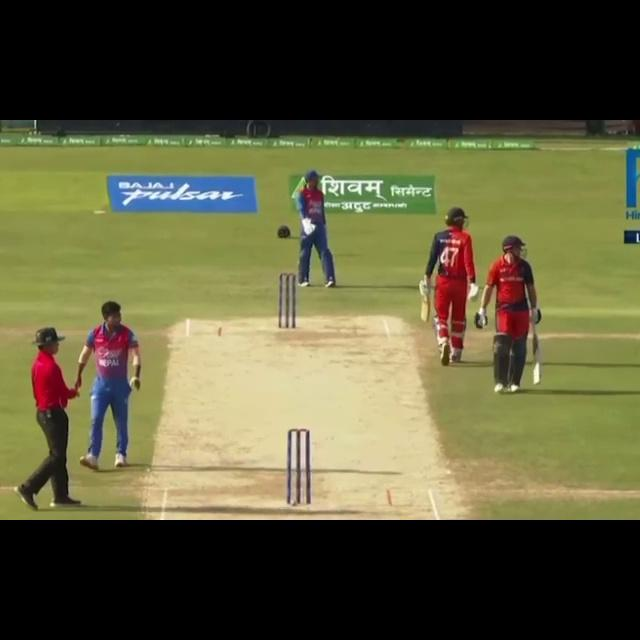umpire: (11, 326, 89, 511)
